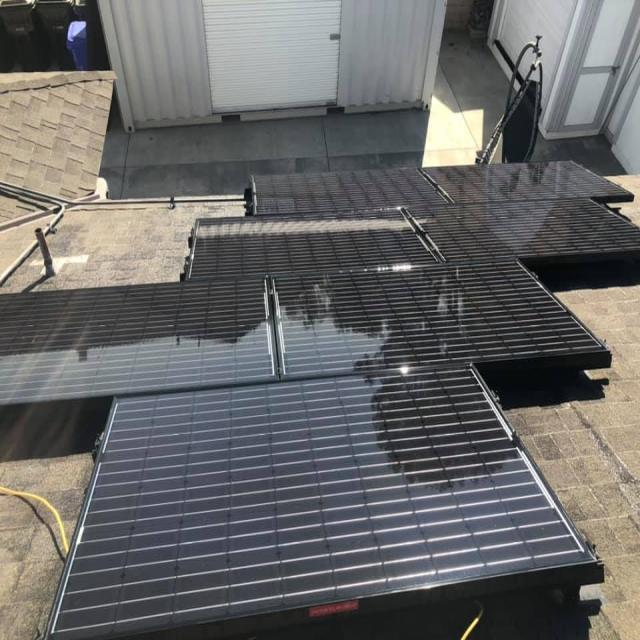clean-solar-panel: (48, 368, 604, 638), (1, 262, 610, 405), (186, 162, 640, 280)
